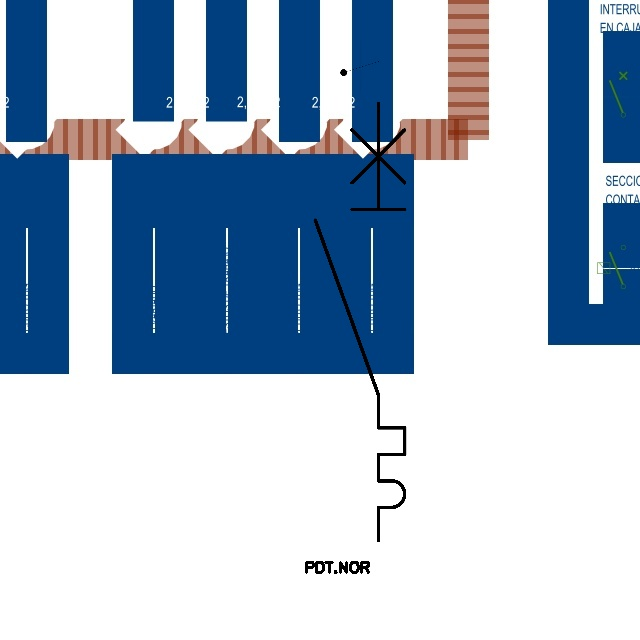interruptor_termomagnetico: (304, 92, 416, 552)
